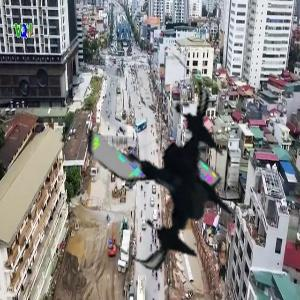drone: (60, 65, 262, 267)
